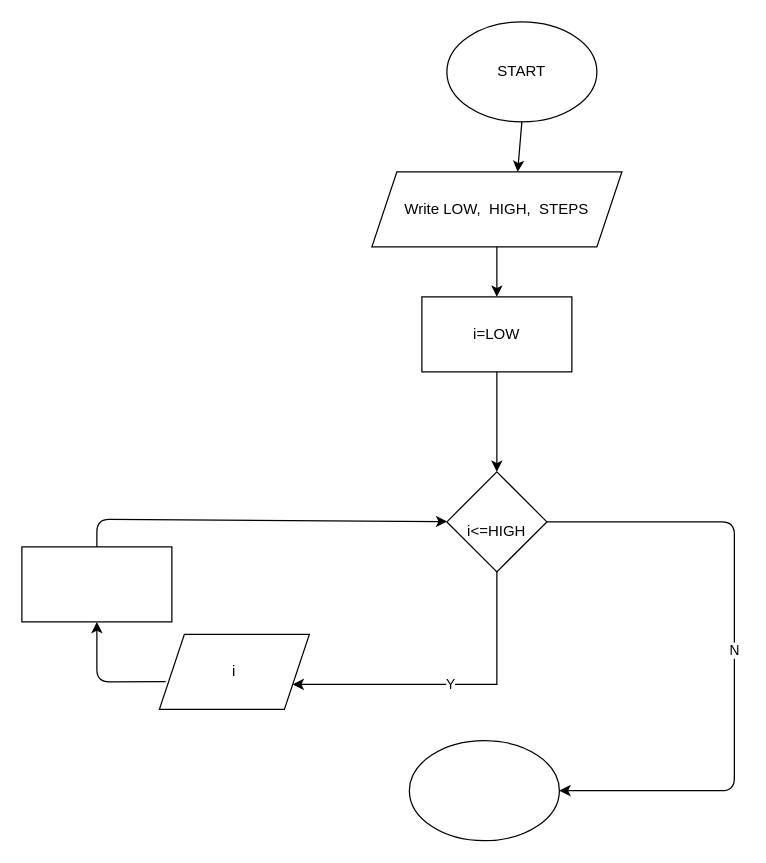
The diagram is 766 pixels wide and 863 high, and some of its shapes have lost their labels. The centre of each missing label's shape, as x and y in pixels:
"END" belongs at pixel 483 790.
"i=i+STEPS" belongs at pixel 96 584.
